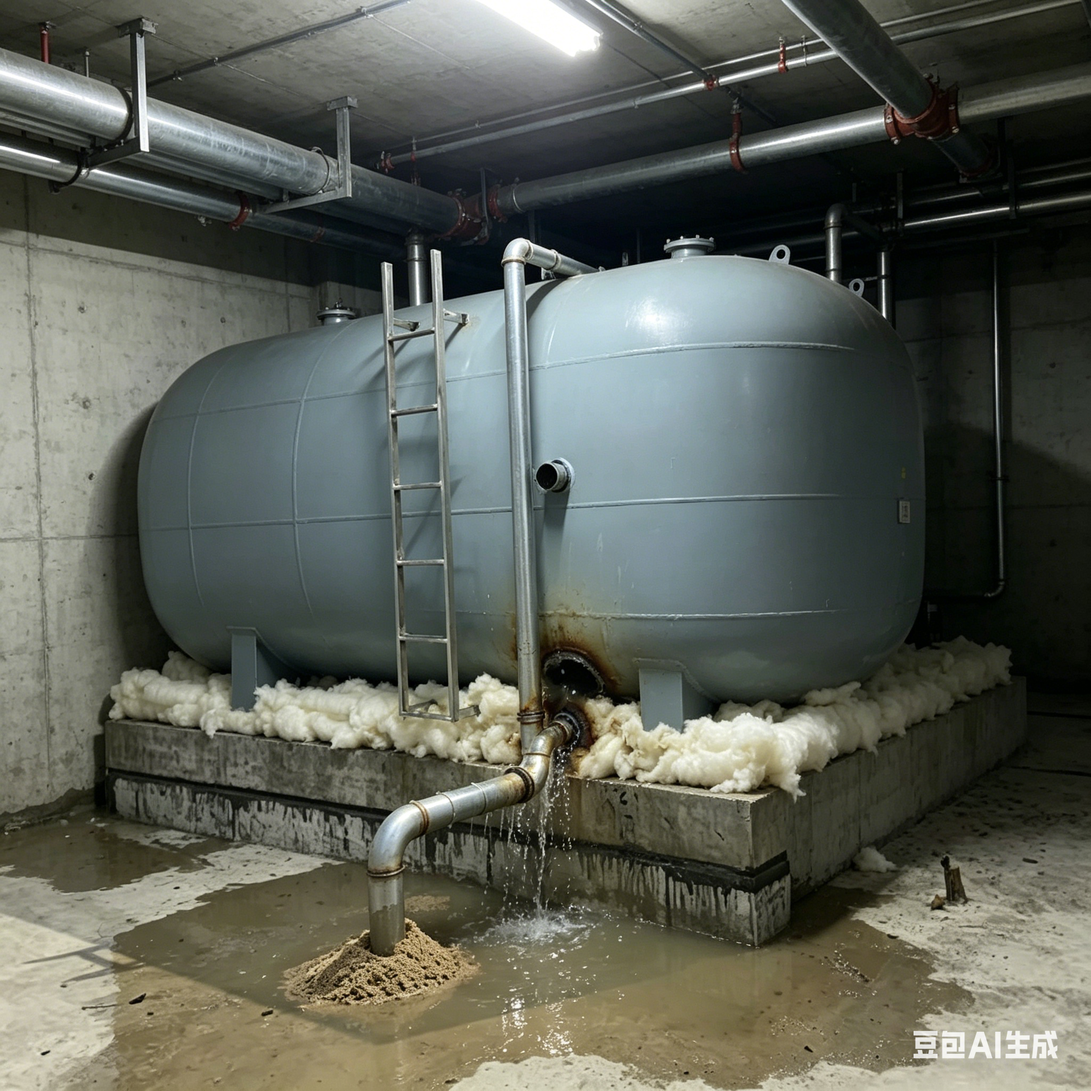Leakage: (136, 908, 515, 1091), (622, 900, 949, 1077), (521, 698, 608, 1083), (265, 854, 495, 906), (12, 816, 158, 888)
